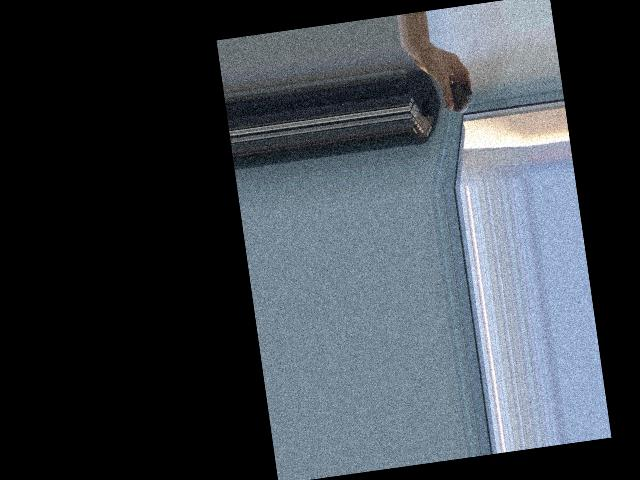beet: (439, 77, 474, 115)
